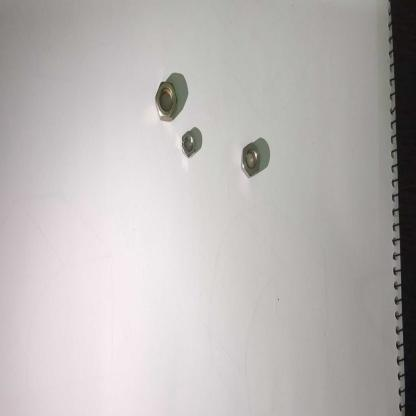NUTS: (152, 72, 181, 125), (240, 141, 262, 179), (179, 129, 197, 161)
